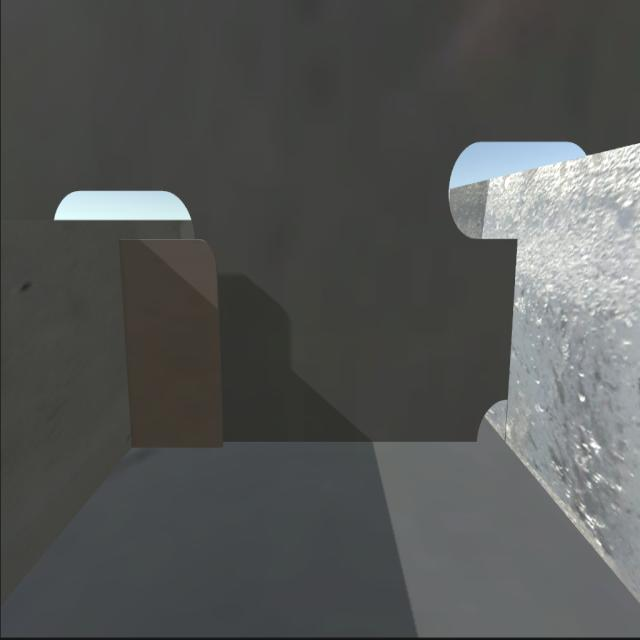fillet_hole: (469, 390, 515, 449)
fillet_yong_jeop_jang: (128, 426, 480, 450)
longi_yong_jeop_jang: (110, 232, 144, 446), (500, 234, 522, 403)
plate_CP05: (116, 237, 228, 445)
